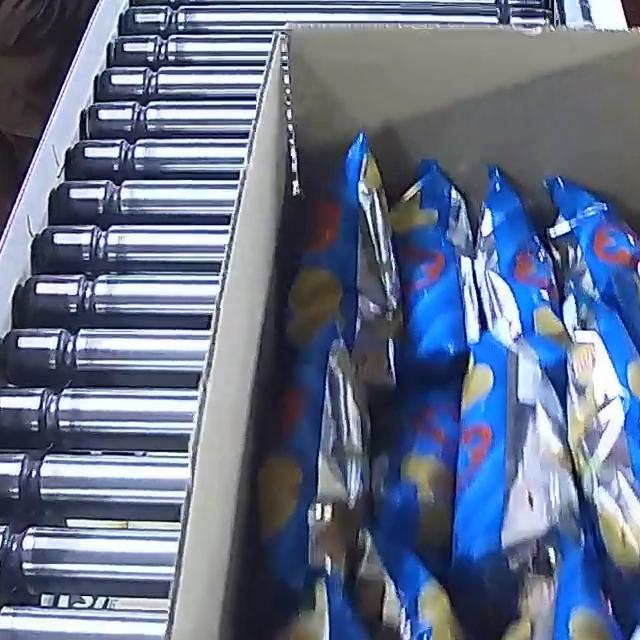paprika: (226, 125, 640, 640)
